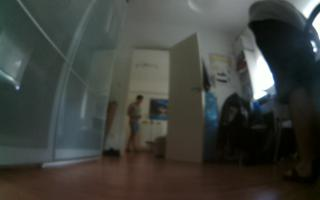person: (235, 1, 319, 186), (124, 90, 147, 160)
